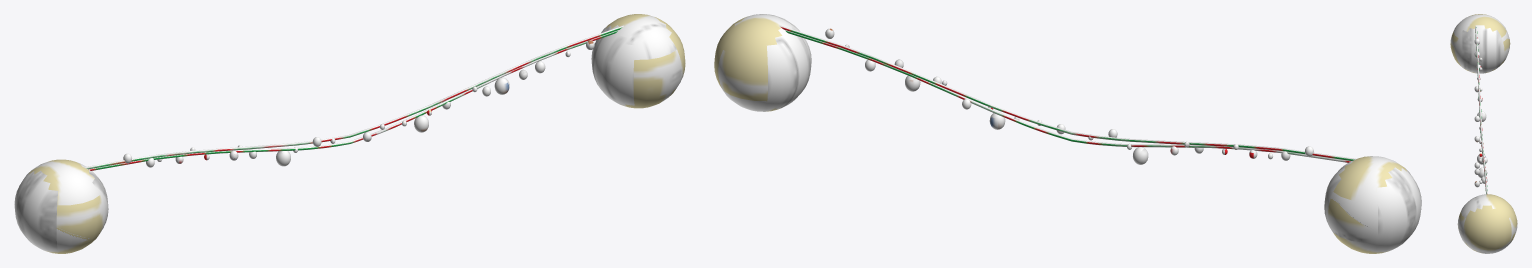
The model's file is lights.obj.
3 views of the same model, side by side, from view 1: azimuth 30°, elevation 25°; view 2: azimuth 150°, elevation 25°; view 3: azimuth 270°, elevation 25° (orthographic). The views are drawn at different scales.
Visible parts, largest first — view 1: pasted__polySurface148 group8; view 2: pasted__polySurface148 group8; view 3: pasted__polySurface148 group8.
Part boxes in pixels (bbox=[...]): pasted__polySurface148 group8: bbox=[14, 14, 685, 253]; pasted__polySurface148 group8: bbox=[714, 14, 1421, 253]; pasted__polySurface148 group8: bbox=[1450, 14, 1517, 253].
Size of the model in its own units: 6.32 by 0.787 by 0.8743.
1 material, 1 textured.
